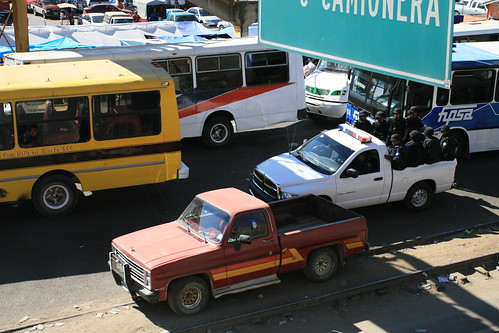bus: (1, 54, 188, 226), (147, 46, 308, 133)
car: (104, 193, 381, 297)
police car: (255, 124, 460, 216)
policeman: (387, 131, 409, 164), (406, 128, 428, 161), (387, 108, 406, 136), (404, 101, 423, 129), (422, 125, 437, 160), (441, 123, 456, 158), (353, 107, 370, 131), (369, 110, 386, 134)
sign: (255, 1, 451, 87)
street: (1, 191, 499, 333)
